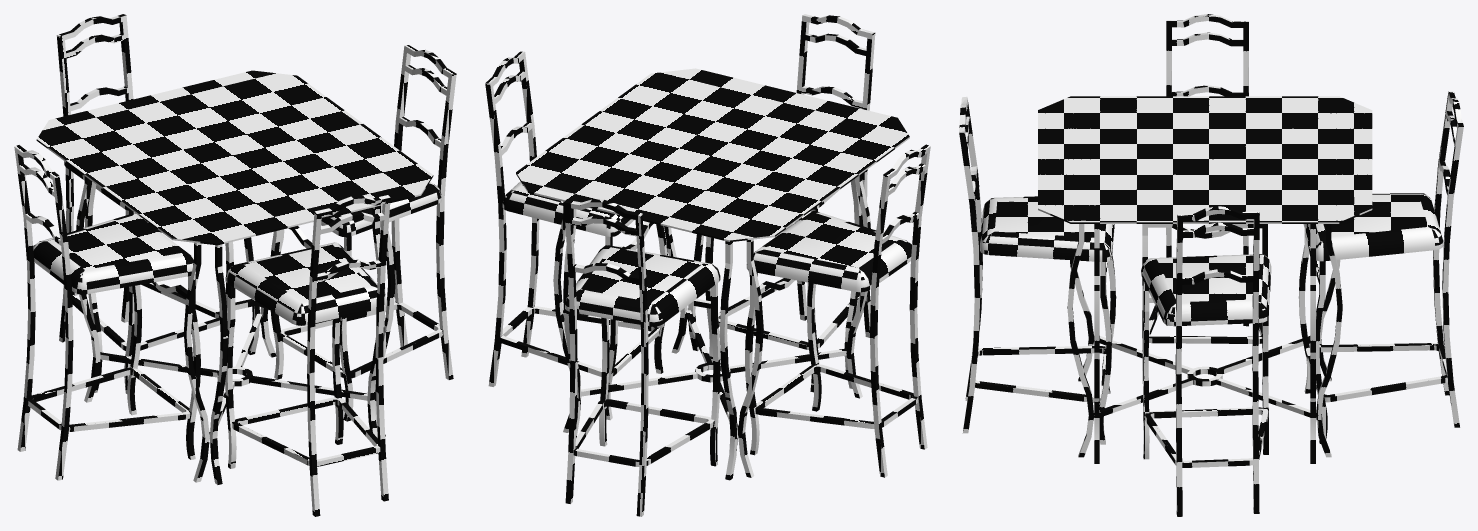
Rendered from Chairs.fbx.
The picture shows the model from 3 angles, left to right: view 1: azimuth 30°, elevation 25°; view 2: azimuth 150°, elevation 25°; view 3: azimuth 270°, elevation 25°; orthographic projection.
Visible parts, largest first — view 1: Model; view 2: Model; view 3: Model.
Boxes of the visible parts, <box> form: Model: <box>14,14,456,516</box>; Model: <box>485,14,930,516</box>; Model: <box>959,14,1463,516</box>.
Size of the model in its own units: 1.6 by 1.17 by 1.74.
